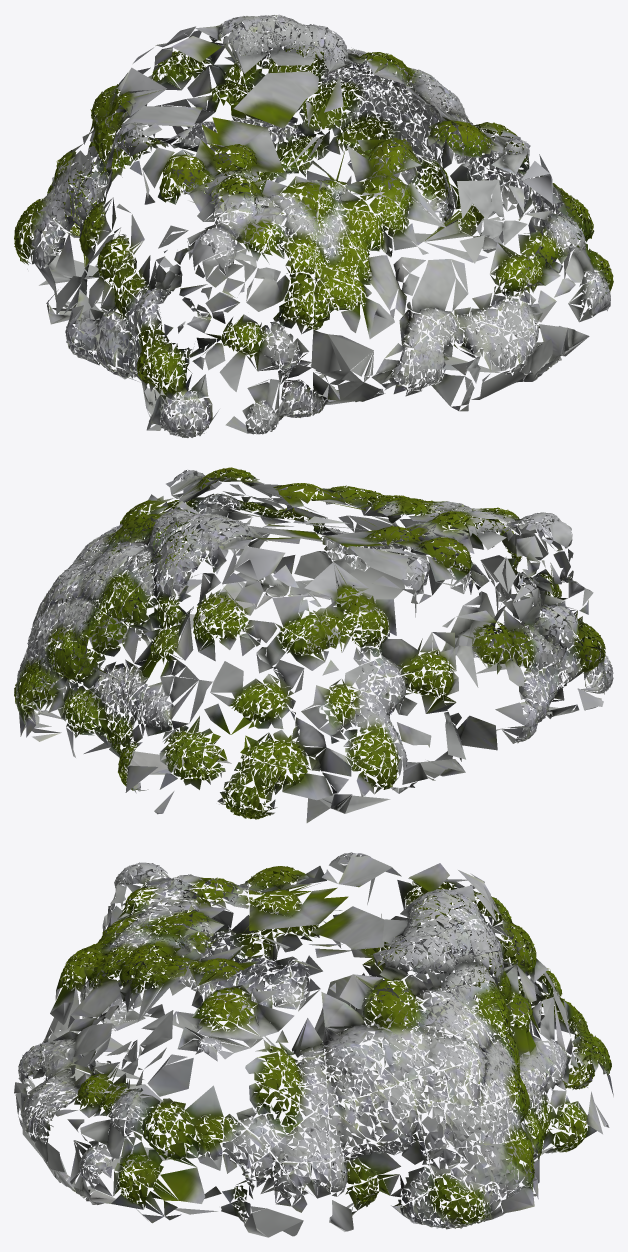
Rendered from mossy_rock.glb.
The picture shows the model from 3 angles, top to bottom: view 1: azimuth 30°, elevation 25°; view 2: azimuth 150°, elevation 25°; view 3: azimuth 270°, elevation 25°; orthographic projection. The views are drawn at different scales.
Visible parts, largest first — view 1: Mesh_0; view 2: Mesh_0; view 3: Mesh_0.
Part boxes in pixels (x1,y1,x2,y2): Mesh_0: (14, 14, 613, 438); Mesh_0: (14, 467, 613, 822); Mesh_0: (14, 852, 613, 1237).
Size of the model in its own units: 2 by 1 by 2.2.
1 material, 1 textured.
